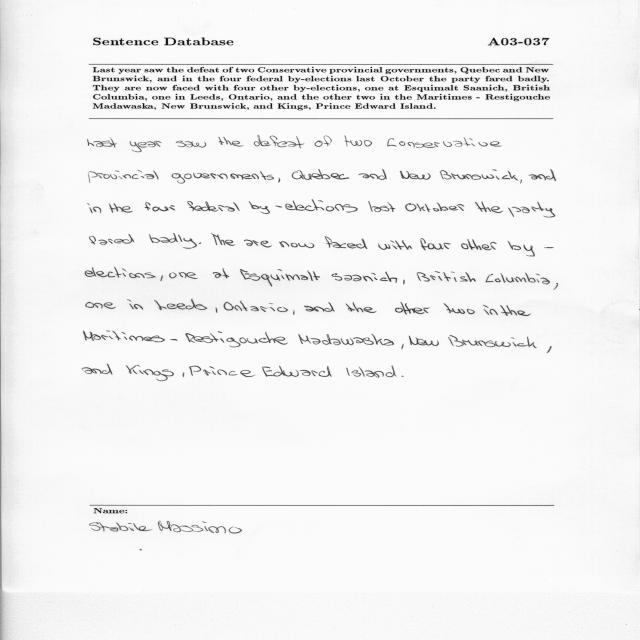word: (185, 331, 288, 347), (249, 200, 358, 214), (240, 269, 320, 286), (172, 171, 274, 184), (387, 137, 502, 148), (448, 335, 537, 348), (298, 334, 394, 346), (89, 170, 159, 183), (83, 331, 165, 342), (440, 170, 518, 181), (125, 365, 174, 381), (85, 267, 156, 278), (332, 271, 397, 283), (262, 366, 332, 377), (149, 233, 197, 249), (189, 366, 255, 377), (223, 301, 288, 312), (508, 202, 555, 217), (486, 273, 550, 284), (508, 242, 554, 257), (254, 136, 305, 149), (417, 271, 476, 282), (292, 169, 349, 180), (346, 366, 397, 378), (405, 203, 465, 213), (154, 300, 208, 311), (187, 201, 240, 212), (325, 236, 368, 249), (90, 234, 134, 245), (395, 302, 430, 315), (461, 239, 497, 250), (420, 238, 451, 250), (130, 141, 162, 152), (444, 303, 475, 314), (500, 305, 531, 316), (82, 364, 113, 375), (378, 240, 412, 250), (87, 137, 117, 148), (346, 302, 376, 313), (529, 169, 556, 181), (211, 233, 235, 246), (304, 302, 335, 312), (344, 136, 372, 147), (359, 169, 387, 180), (475, 202, 503, 213), (409, 336, 439, 346), (368, 201, 395, 212), (400, 171, 431, 180), (144, 203, 175, 212), (218, 137, 244, 147), (279, 241, 315, 248), (109, 203, 133, 213), (244, 240, 272, 248), (314, 135, 332, 147), (176, 141, 206, 148), (86, 302, 116, 309), (169, 272, 198, 279), (127, 299, 143, 310), (213, 269, 229, 279), (483, 305, 498, 315), (88, 203, 101, 213), (553, 283, 558, 290), (547, 346, 552, 353), (160, 275, 163, 281), (401, 344, 404, 349), (171, 339, 178, 341), (278, 178, 280, 183), (403, 280, 405, 285), (216, 308, 218, 313), (293, 310, 295, 315), (520, 180, 522, 184), (183, 373, 185, 377), (199, 242, 201, 244), (401, 376, 404, 377)
